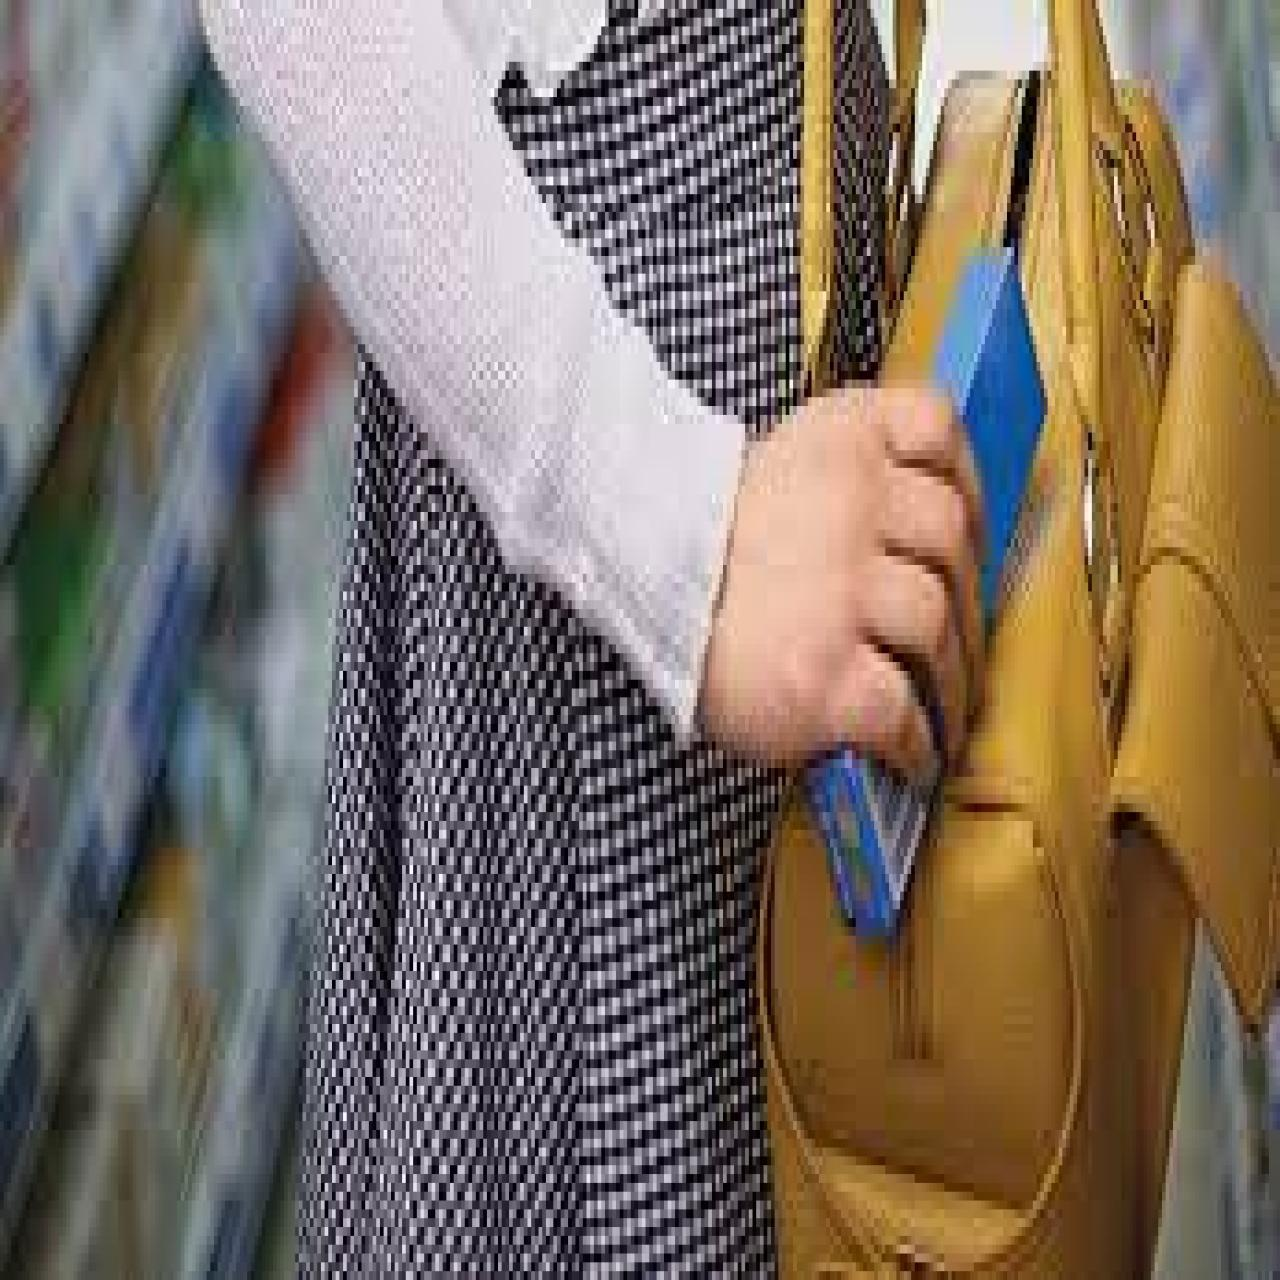Shoplifting: (719, 45, 1232, 1280)
